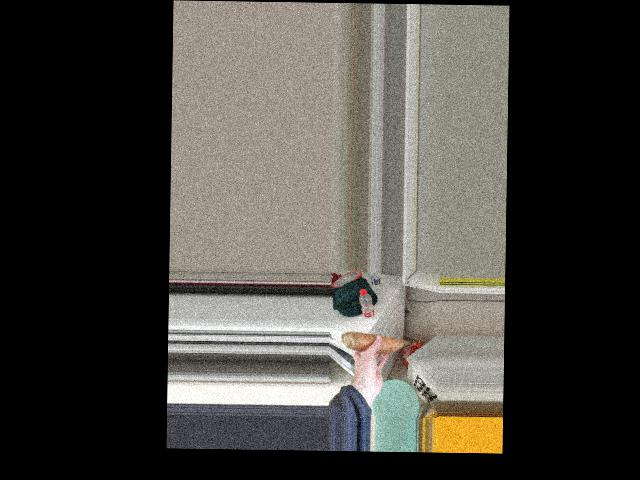sweet_potato: (350, 337, 403, 353)
